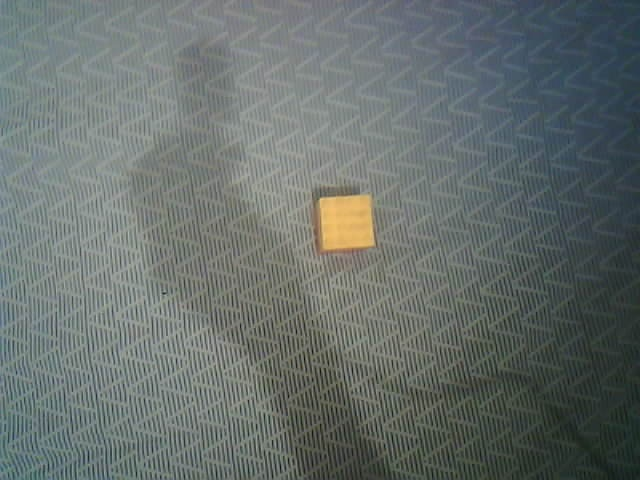lego: (311, 193, 378, 254)
